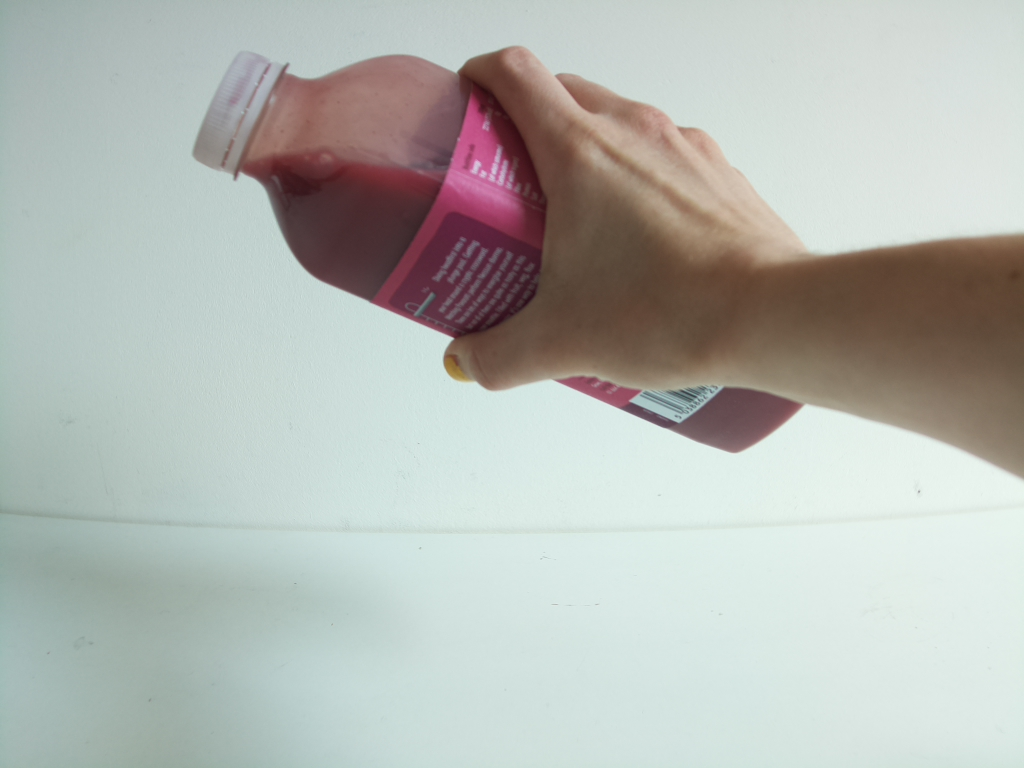juice: (180, 45, 815, 456)
